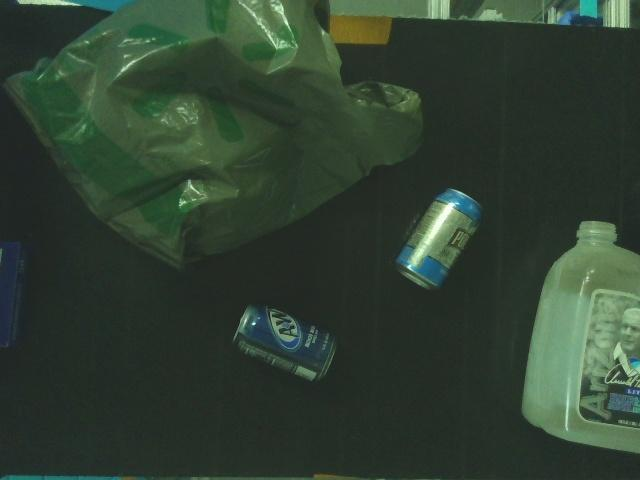metal: (388, 180, 482, 292), (228, 297, 343, 386)
plastic: (0, 0, 429, 272), (516, 215, 640, 467)
